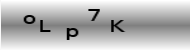7: (87, 8, 101, 21)
K: (110, 18, 125, 33)
L: (38, 19, 51, 32)
o: (22, 14, 36, 25)
p: (65, 27, 78, 40)
